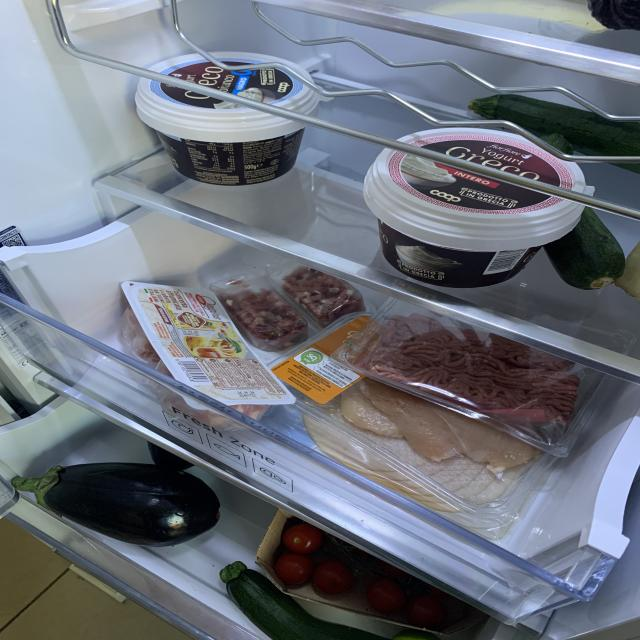aubergine: (14, 460, 218, 547)
bacon: (146, 365, 264, 427), (221, 285, 307, 351), (278, 270, 362, 326), (114, 310, 163, 361)
cherry_tomato: (274, 526, 463, 622)
chicken_breast: (328, 378, 546, 464)
courgettes: (219, 562, 398, 640), (470, 93, 639, 174), (535, 133, 622, 290)
ground_beef: (378, 328, 581, 426)
ham: (305, 409, 506, 508)
yoghurt: (366, 127, 586, 289), (138, 48, 316, 185)
